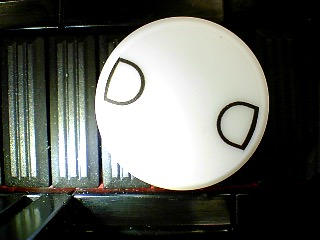MIPO2: (94, 16, 270, 191)
